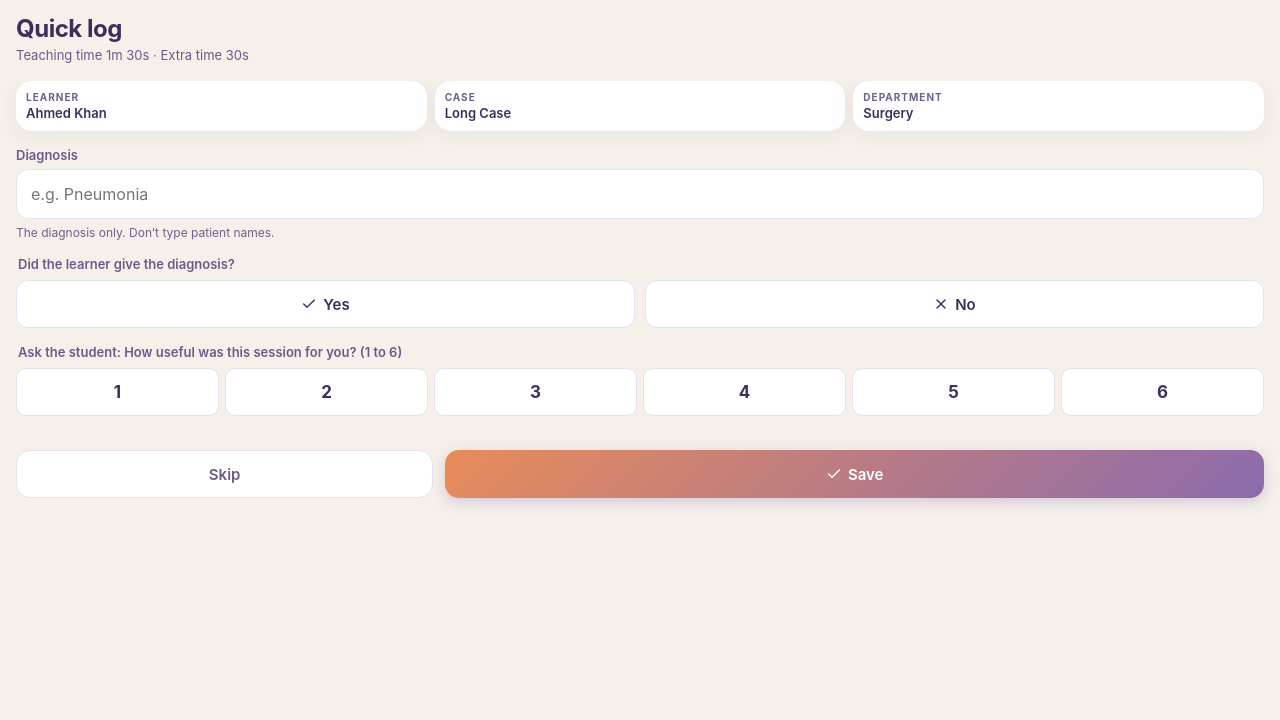
Test: quick log › shows no confirmation when the save fails
Click the button "Save".
click(855, 474)  # box 445,450 -> 1264,498
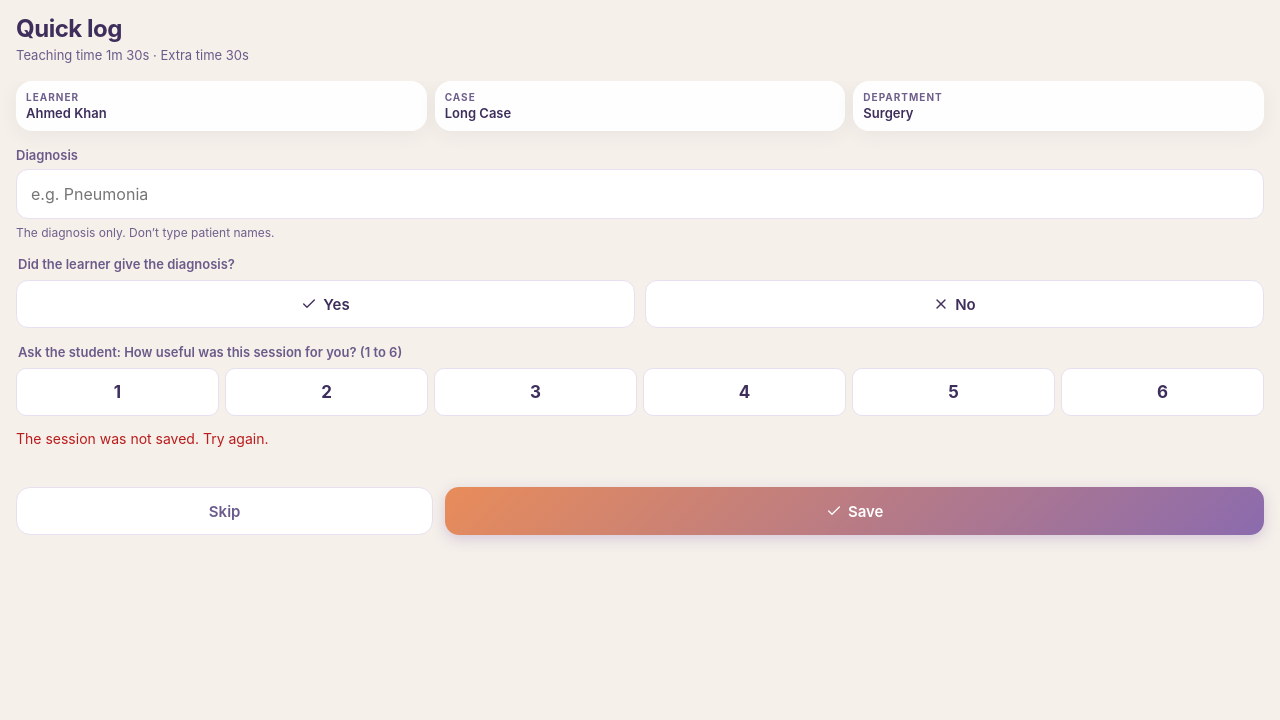
Check: the message shows "The session was not saved", box 16,430 -> 268,447
